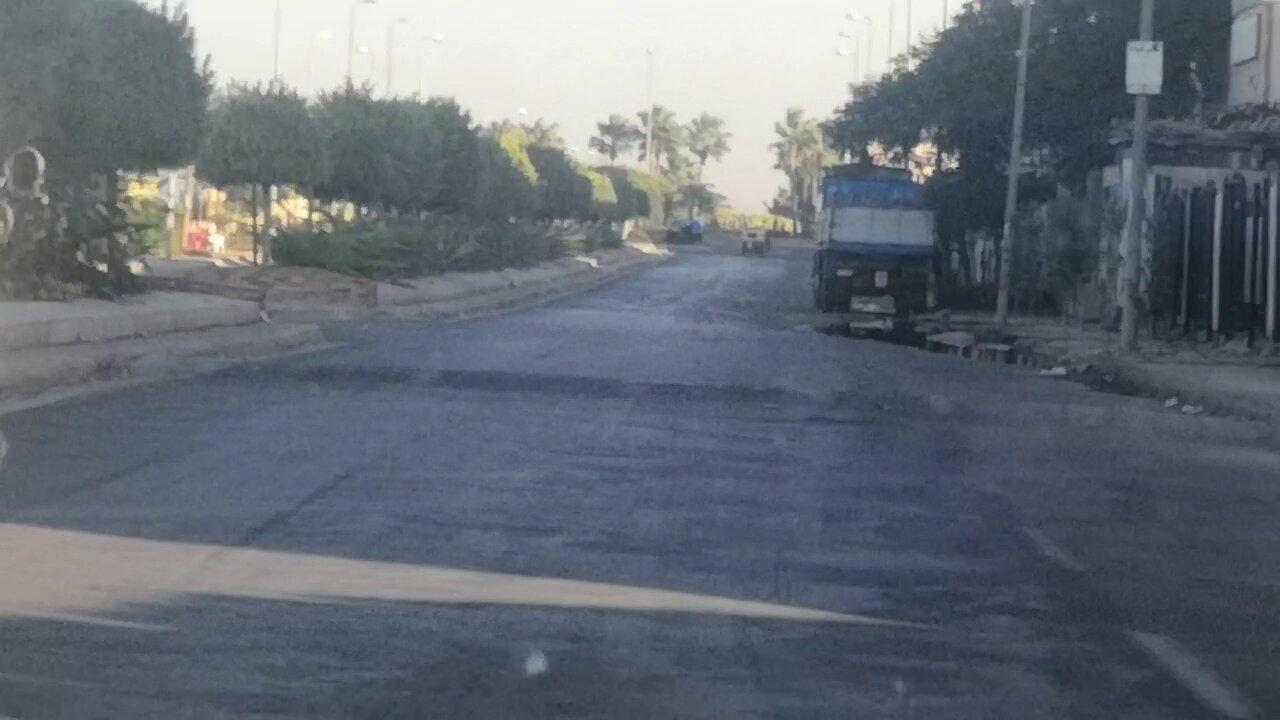Bump: (253, 347, 1257, 450)
